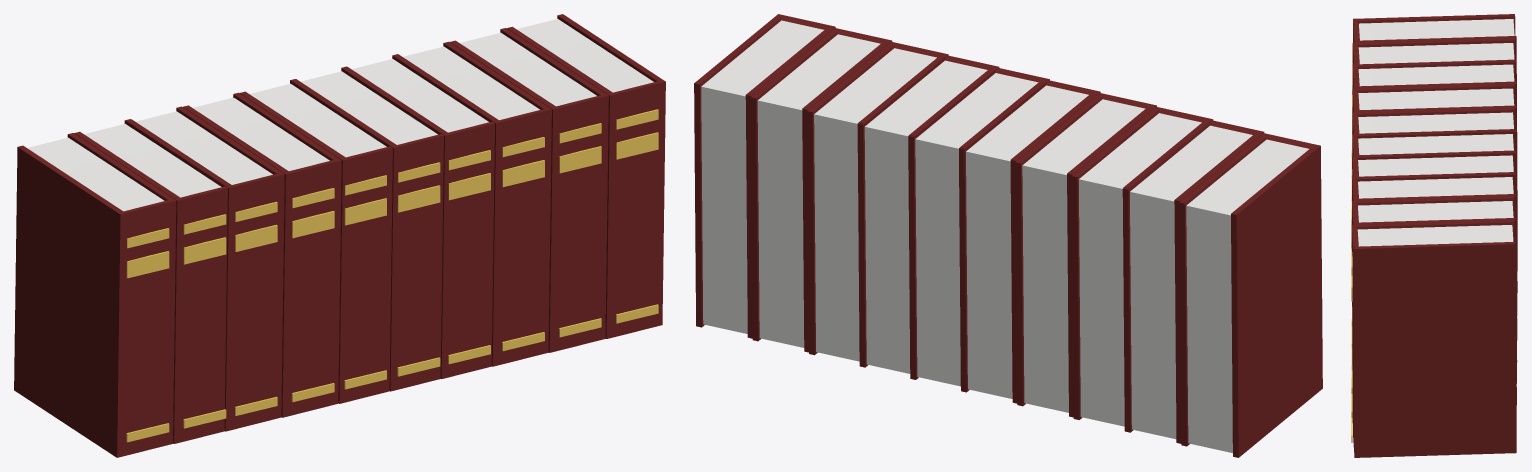
The model's file is Books_3_231109.glb.
The picture shows the model from 3 angles, left to right: view 1: azimuth 30°, elevation 25°; view 2: azimuth 150°, elevation 25°; view 3: azimuth 270°, elevation 25°; orthographic projection. The views are drawn at different scales.
Visible parts, largest first — view 1: Books_3; view 2: Books_3; view 3: Books_3.
Boxes of the visible parts, <box> form: Books_3: <box>14,14,665,457</box>; Books_3: <box>694,14,1322,457</box>; Books_3: <box>1351,14,1517,457</box>.
Size of the model in its own units: 1.65 by 0.6932 by 0.4953.
1 material, 1 textured.
